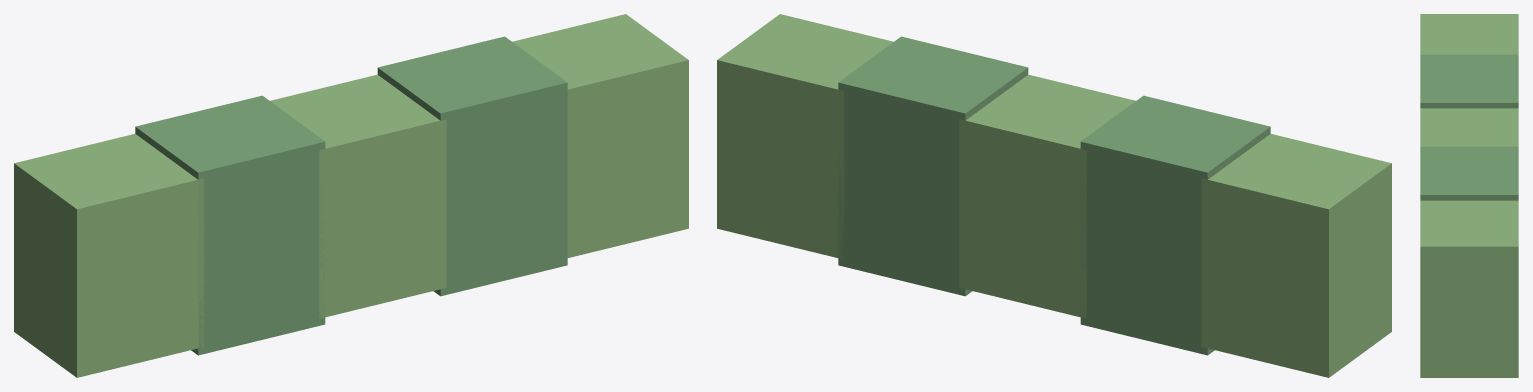
File: veg_hedge_02.glb
The picture shows the model from 3 angles, left to right: view 1: azimuth 30°, elevation 25°; view 2: azimuth 150°, elevation 25°; view 3: azimuth 270°, elevation 25°; orthographic projection. The views are drawn at different scales.
Visible parts, largest first — view 1: hedge_0, hedge_1, hedge_3, hedge_2, hedge_4; view 2: hedge_0, hedge_3, hedge_1, hedge_4, hedge_2; view 3: hedge_4, hedge_1, hedge_3, hedge_0, hedge_2.
Boxes of the visible parts, x1=… form: hedge_0: x1=14, y1=134, x2=204, y2=377; hedge_1: x1=135, y1=95, x2=325, y2=355; hedge_3: x1=377, y1=36, x2=567, y2=296; hedge_2: x1=270, y1=74, x2=446, y2=318; hedge_4: x1=512, y1=14, x2=688, y2=257; hedge_0: x1=1201, y1=134, x2=1391, y2=377; hedge_3: x1=838, y1=36, x2=1028, y2=296; hedge_1: x1=1080, y1=95, x2=1270, y2=355; hedge_4: x1=717, y1=14, x2=893, y2=258; hedge_2: x1=959, y1=74, x2=1135, y2=318; hedge_4: x1=1420, y1=200, x2=1518, y2=377; hedge_1: x1=1420, y1=54, x2=1518, y2=108; hedge_3: x1=1420, y1=146, x2=1518, y2=200; hedge_0: x1=1420, y1=14, x2=1518, y2=54; hedge_2: x1=1420, y1=108, x2=1518, y2=146.
Bounding box in the file's own units: 5.05 × 1.44 × 0.9.
